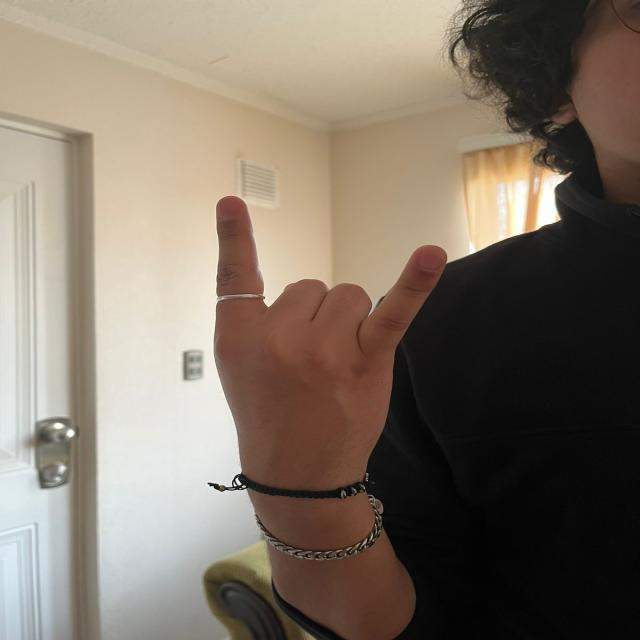U: (203, 188, 445, 482)
